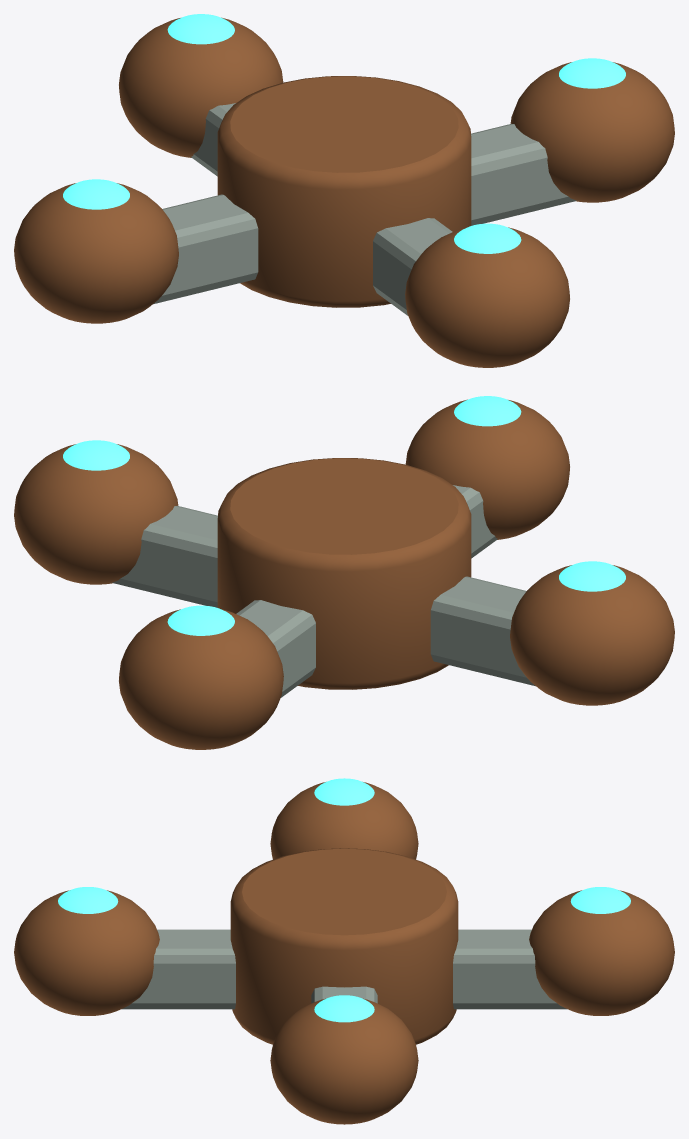
Rendered from battlecity-dfg-item.glb.
The picture shows the model from 3 angles, top to bottom: view 1: azimuth 30°, elevation 25°; view 2: azimuth 150°, elevation 25°; view 3: azimuth 270°, elevation 25°; orthographic projection. The views are drawn at different scales.
Parts seen in each view (by area): view 1: DX mine copper shell, Brushed steel, Command glow; view 2: DX mine copper shell, Brushed steel, Command glow; view 3: DX mine copper shell, Brushed steel, Command glow.
Part boxes in pixels (x1=…): DX mine copper shell: x1=14, y1=17, x2=674, y2=367; Brushed steel: x1=153, y1=103, x2=576, y2=315; Command glow: x1=63, y1=14, x2=625, y2=253; DX mine copper shell: x1=14, y1=399, x2=674, y2=749; Brushed steel: x1=112, y1=485, x2=535, y2=697; Command glow: x1=63, y1=396, x2=625, y2=635; DX mine copper shell: x1=14, y1=782, x2=674, y2=1124; Brushed steel: x1=121, y1=929, x2=567, y2=1009; Command glow: x1=58, y1=778, x2=630, y2=1022.
Size of the model in its own units: 0.696 by 0.14 by 0.696.
